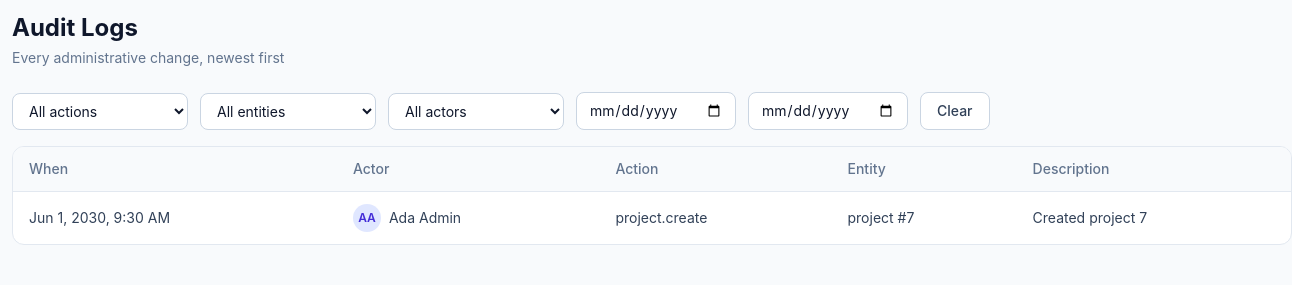
it: AuditPage › sends each filter to the API and resets them with Clear
Expected: the text "Created project 7" is shown, [1017, 192, 1291, 244]
Select "user" in the dropdown named "Entity type" at x=288, y=112, box [200, 93, 376, 130]
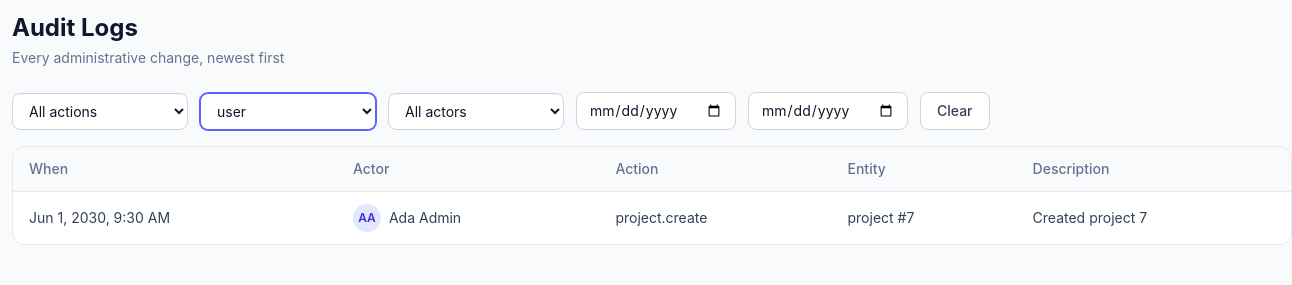
Select "Max Manager" in the dropdown named "Actor" at x=476, y=112, box [388, 93, 564, 130]
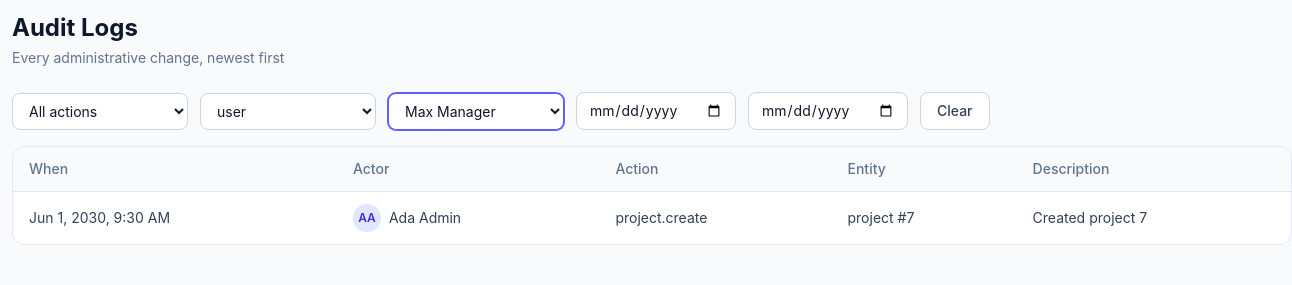
Type "2030-01-01" into the date field named "From date" at x=656, y=111, box [576, 92, 736, 130]
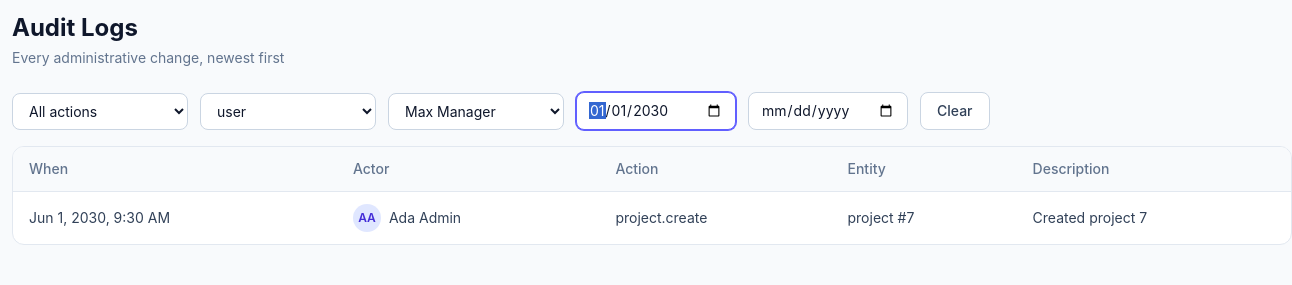
Type "2030-12-31" into the date field named "To date" at x=828, y=111, box [748, 92, 908, 130]
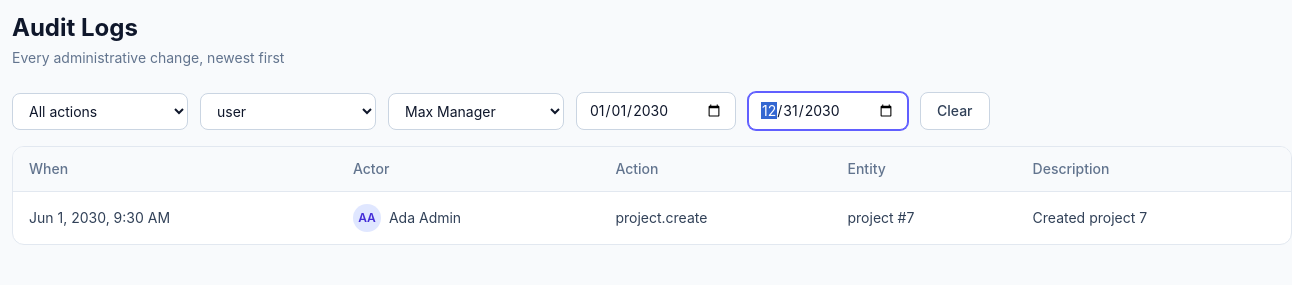
Select "user.create" in the dropdown named "Action" at x=100, y=112, box [12, 93, 188, 130]
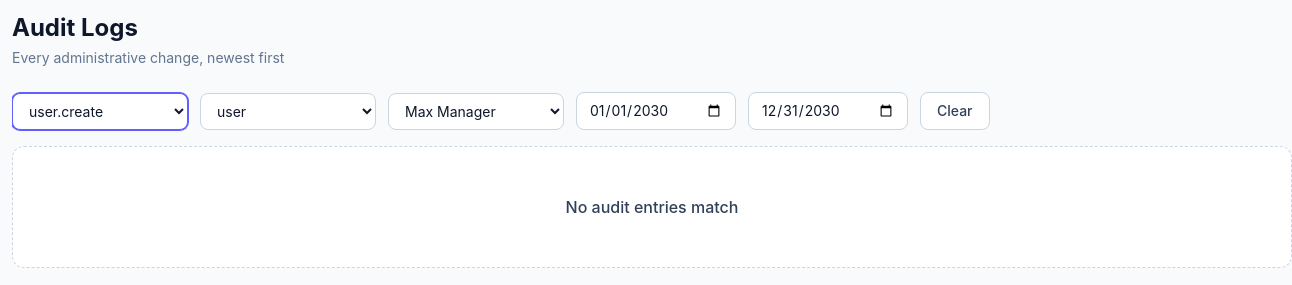
Expected: the text "No audit entries match" is shown, [566, 197, 738, 217]
Click the button "Clear" at x=955, y=111, box [920, 92, 990, 130]
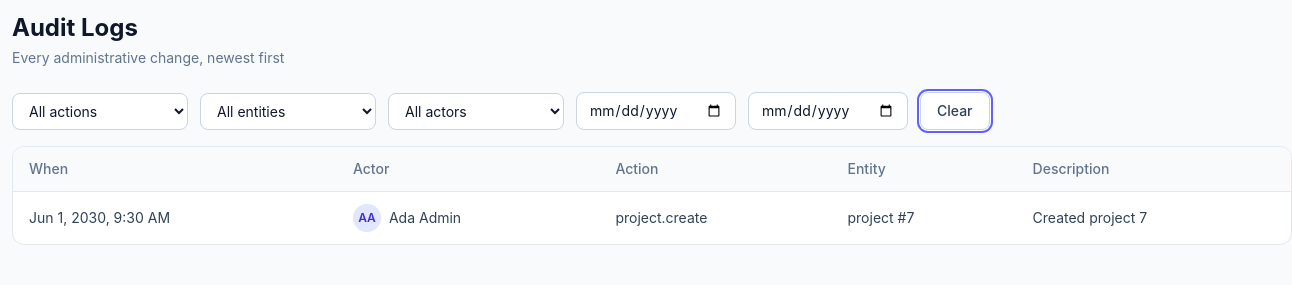
Expected: the text "Created project 7" is shown, [1017, 192, 1291, 244]
